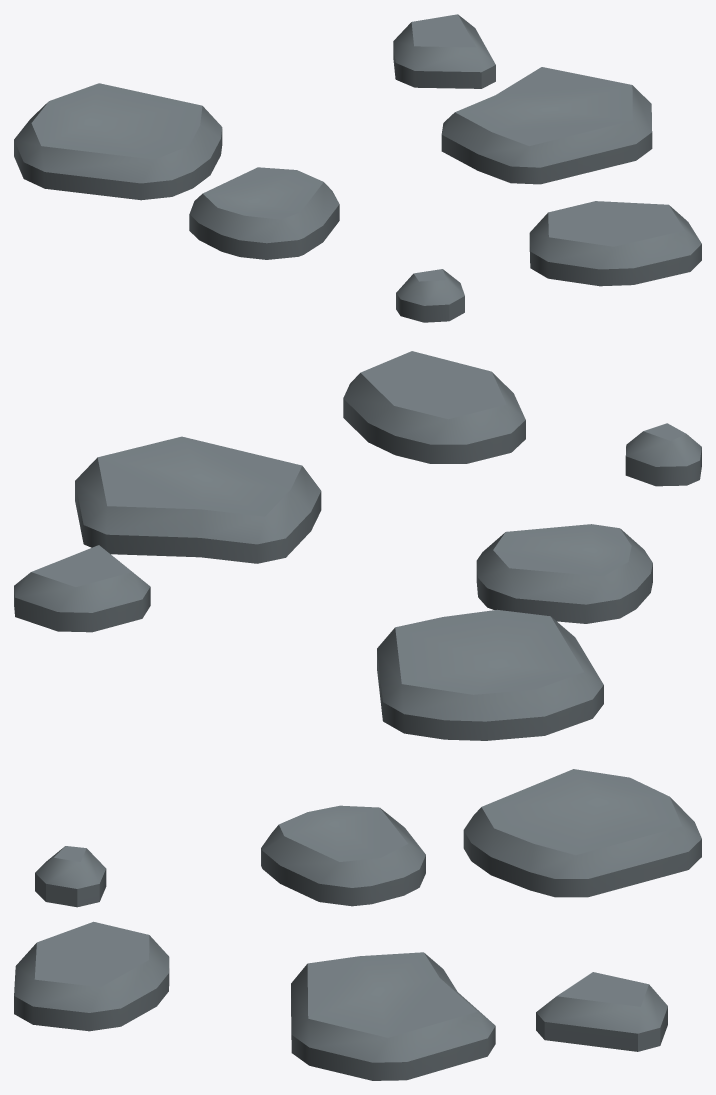
File: path_D.obj
3 views of the same model, one above another, from view 1: azimuth 30°, elevation 25°; view 2: azimuth 150°, elevation 25°; view 3: azimuth 270°, elevation 25° (orthographic). The views are drawn at different scales.
Visible parts, largest first — view 1: path_D_Cube.700; view 2: path_D_Cube.700; view 3: path_D_Cube.700.
Boxes of the visible parts, box(x1,y1,x2,y2) form: path_D_Cube.700: box(14, 14, 701, 322); path_D_Cube.700: box(14, 351, 701, 740); path_D_Cube.700: box(14, 769, 701, 1080).
Size of the model in its own units: 1.66 by 0.1 by 1.71.
1 material, 1 textured.
